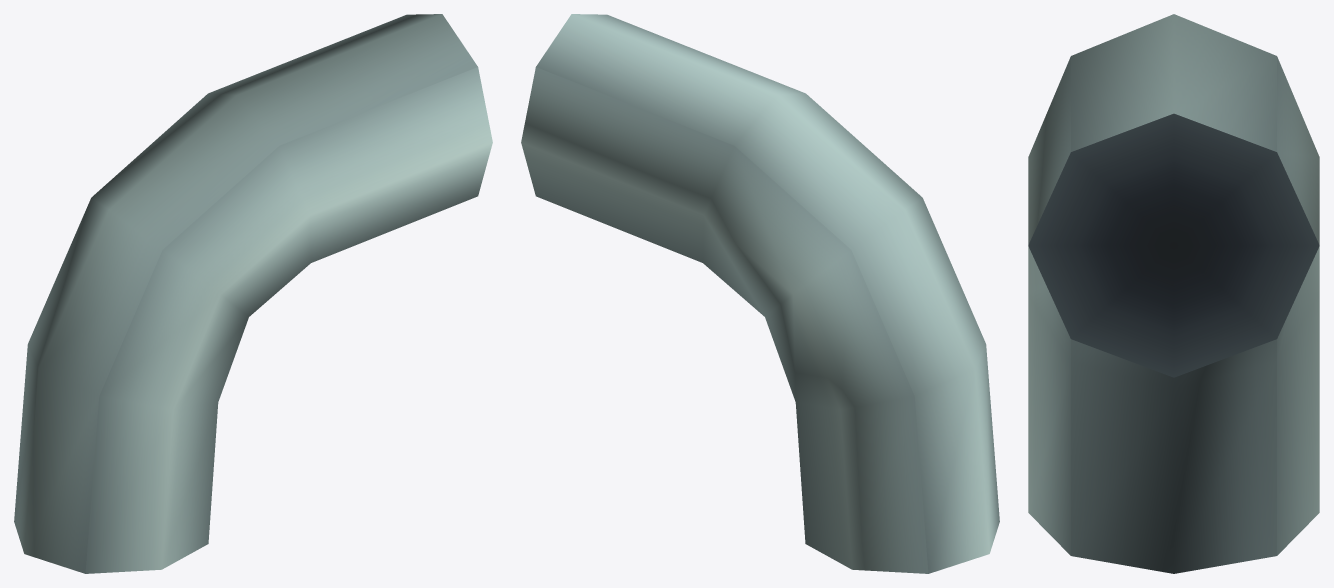
File: drain_90_degrees_down.fbx
3 renders of one model, left to right at view 1: azimuth 30°, elevation 25°; view 2: azimuth 150°, elevation 25°; view 3: azimuth 270°, elevation 25°, orthographic. The views are drawn at different scales.
Visible parts, largest first — view 1: drain_90_degrees_down; view 2: drain_90_degrees_down; view 3: drain_90_degrees_down.
Boxes of the visible parts, x1=… form: drain_90_degrees_down: x1=14, y1=14, x2=492, y2=573; drain_90_degrees_down: x1=521, y1=14, x2=999, y2=573; drain_90_degrees_down: x1=1028, y1=14, x2=1319, y2=573.
Size of the model in its own units: 31.57 by 31.6 by 13.21.
